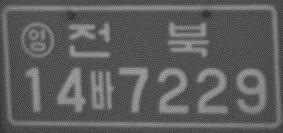1: (20, 66, 50, 113)
2: (195, 66, 230, 114), (156, 66, 189, 114)
4: (55, 66, 86, 112)
7: (117, 65, 147, 112)
9: (234, 67, 267, 114)
바: (89, 69, 115, 111)
영: (20, 20, 55, 59)
전북_D: (68, 21, 210, 59)
